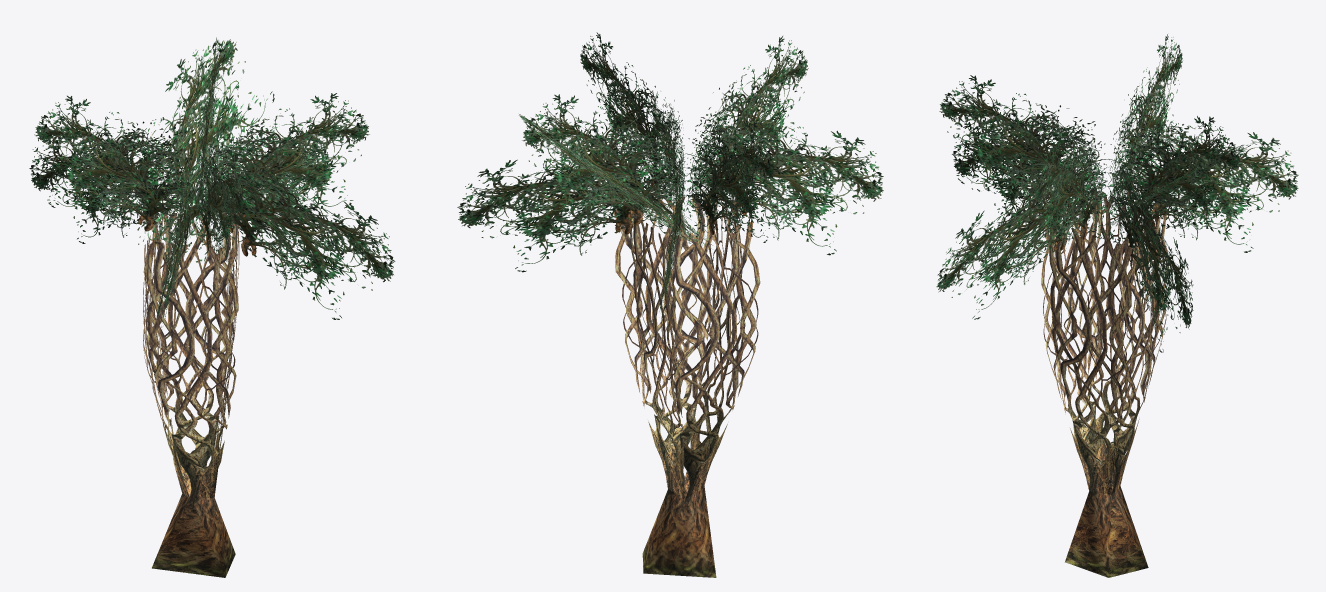
The model's file is decd_flutevine_a1_l2.fbx.
3 views of the same model, side by side, from view 1: azimuth 30°, elevation 25°; view 2: azimuth 150°, elevation 25°; view 3: azimuth 270°, elevation 25° (orthographic). The views are drawn at different scales.
Visible parts, largest first — view 1: mesh_node; view 2: mesh_node; view 3: mesh_node.
Boxes of the visible parts, x1,y1,x2,y2 form: mesh_node: (29, 37, 395, 577); mesh_node: (457, 32, 883, 577); mesh_node: (936, 34, 1298, 577).
Size of the model in its own units: 13.12 by 18.61 by 13.32.
